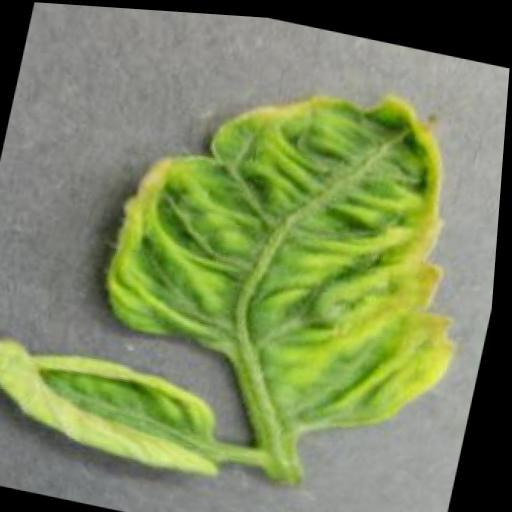Yellow Leaf Curl Virus: (87, 34, 505, 452), (0, 331, 245, 479)
